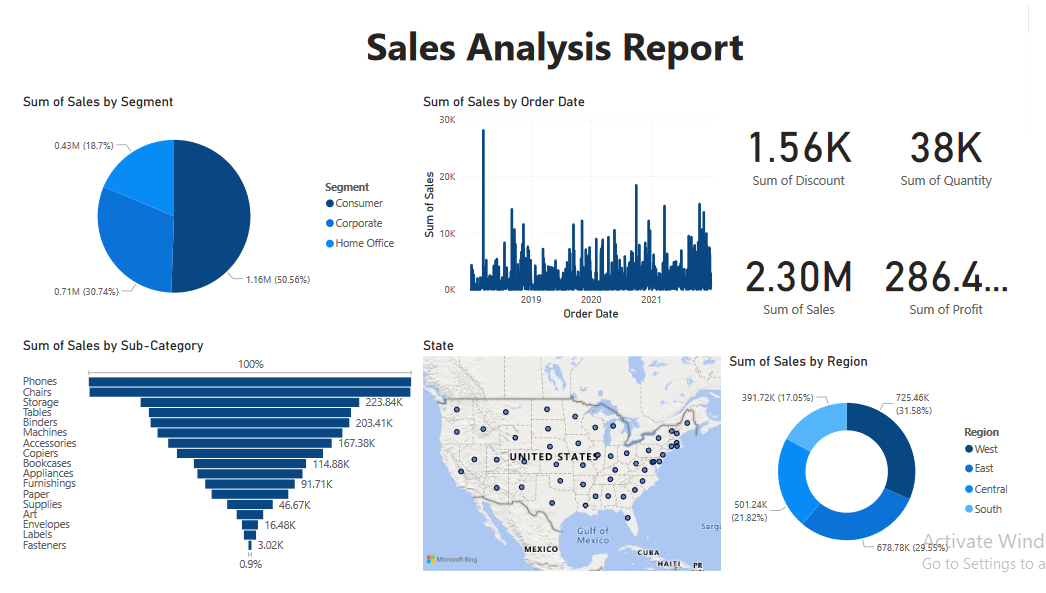

The page's visual inventory and layout, read from the dashboard file:
{"tool":"powerbi","page":{"name":"SalesAnalysis","canvas":[1280,720],"ordinal":0},"visuals":[{"type":"donutChart","fields":{"Category":["Orders1.Region"],"Y":["Sum(Orders1.Sales)"]},"box":[895.3,440.1,372.9,280.5],"z":0},{"type":"map","fields":{"Category":["Orders1.State"]},"box":[507.3,419.9,388,300.7],"z":1000},{"type":"funnel","fields":{"Category":["Orders1.Sub-Category"],"Y":["Sum(Orders1.Sales)"]},"box":[0,419.9,507.3,300.7],"z":2000},{"type":"pieChart","fields":{"Category":["Orders1.Segment"],"Y":["Sum(Orders1.Sales)"]},"box":[0,110.9,490.5,292.3],"z":3000},{"type":"lineChart","fields":{"Category":["Orders1.Order Date"],"Y":["Sum(Orders1.Sales)"]},"box":[507,111,388,292],"z":4000},{"type":"card","fields":{"Values":["Sum(Orders1.Profit)"]},"box":[1081.8,257,186.5,178.1],"z":5000},{"type":"card","fields":{"Values":["Sum(Orders1.Quantity)"]},"box":[1081.8,107.5,186.5,149.5],"z":6000},{"type":"card","fields":{"Values":["Sum(Orders1.Sales)"]},"box":[895.3,257,186.5,178.1],"z":7000},{"type":"card","fields":{"Values":["Sum(Orders1.Discount)"]},"box":[895,107,186,150],"z":8000},{"type":"textbox","box":[435.1,11.8,621.5,80.6],"z":9000}]}

Visuals, with their boxes in screenshot pixels (x1, y1, x2, y2), scaled from the page's 1280x720 canvas onto the 1046x593 screenshot:
donutChart - Orders1.Region x Sum(Orders1.Sales): x1=732, y1=362, x2=1036, y2=592
map - Orders1.State: x1=415, y1=346, x2=732, y2=592
funnel - Orders1.Sub-Category x Sum(Orders1.Sales): x1=0, y1=346, x2=415, y2=592
pieChart - Orders1.Segment x Sum(Orders1.Sales): x1=0, y1=91, x2=401, y2=332
lineChart - Orders1.Order Date x Sum(Orders1.Sales): x1=414, y1=91, x2=731, y2=332
card - Sum(Orders1.Profit): x1=884, y1=212, x2=1036, y2=358
card - Sum(Orders1.Quantity): x1=884, y1=89, x2=1036, y2=212
card - Sum(Orders1.Sales): x1=732, y1=212, x2=884, y2=358
card - Sum(Orders1.Discount): x1=731, y1=88, x2=883, y2=212
textbox: x1=356, y1=10, x2=863, y2=76
